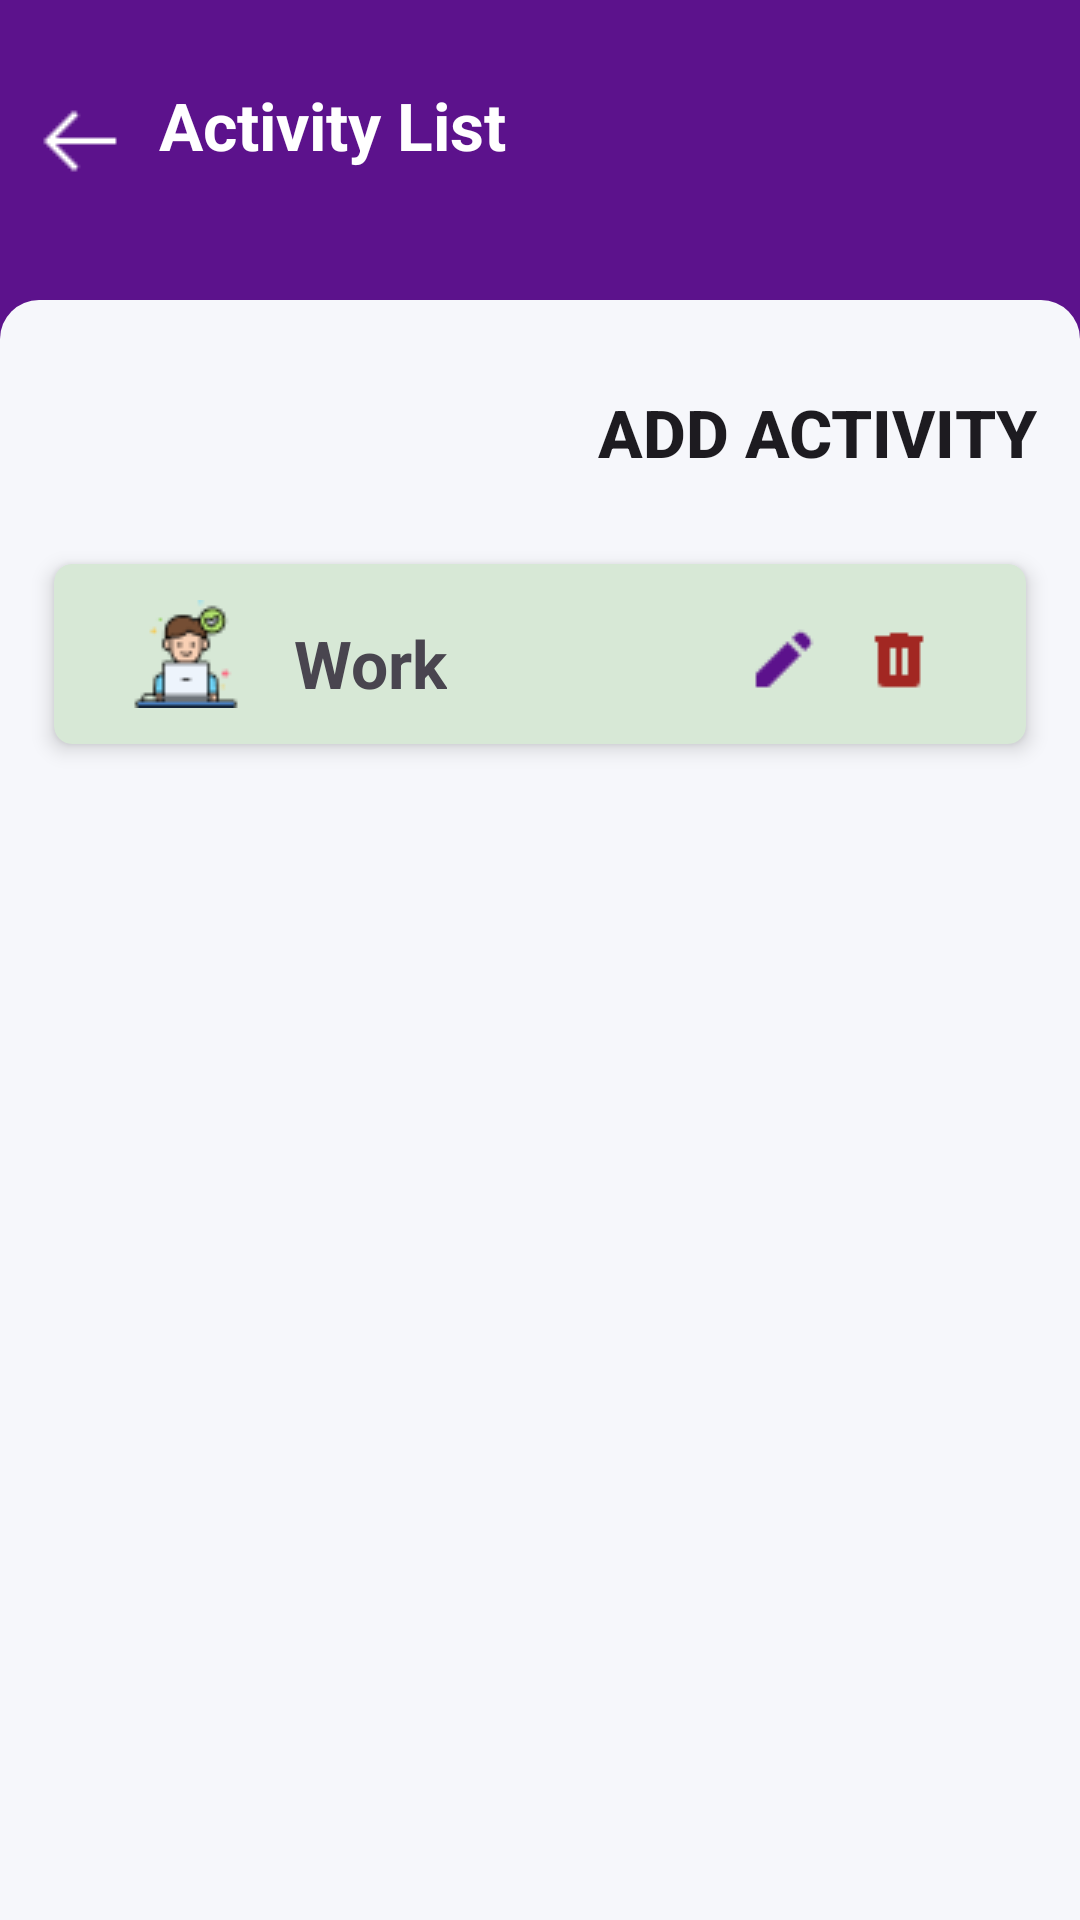

Named icons in this screenshot (1080x1920) and their centers, (x,y):
arrow: (80,141)
remove: (899,660)
